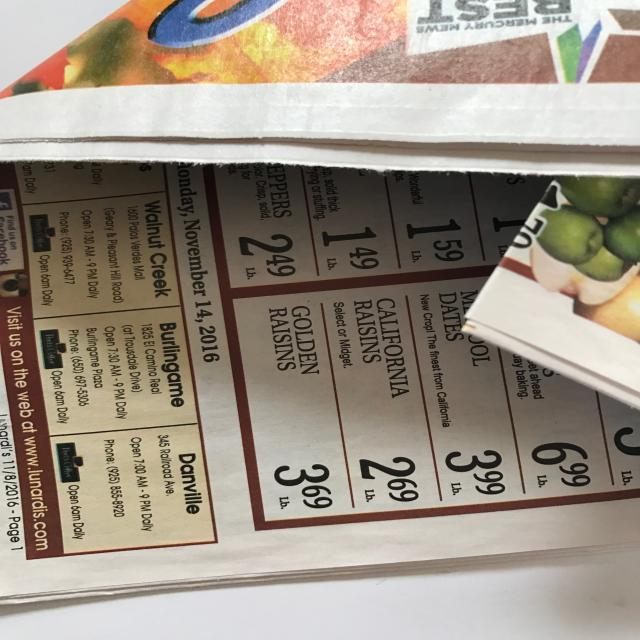Paper: (0, 2, 640, 599)
